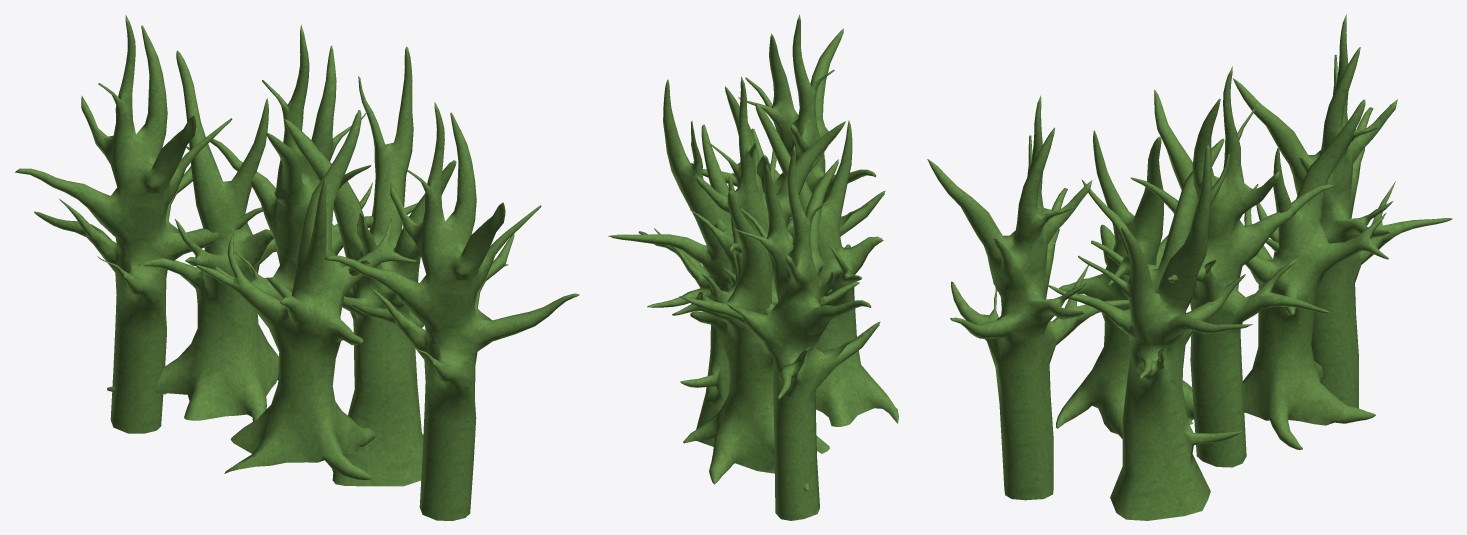
Rendered from SM_ENV_KNFRST_DistanceTree_GroupE.FBX.
3 renders of one model, left to right at view 1: azimuth 30°, elevation 25°; view 2: azimuth 150°, elevation 25°; view 3: azimuth 270°, elevation 25°, orthographic. The views are drawn at different scales.
Visible parts, largest first — view 1: SM_ENV_KNFRST_DistanceTree_GroupE; view 2: SM_ENV_KNFRST_DistanceTree_GroupE; view 3: SM_ENV_KNFRST_DistanceTree_GroupE.
Part boxes in pixels (left/top/right/bottom): SM_ENV_KNFRST_DistanceTree_GroupE: left=15, top=15, right=579, bottom=520; SM_ENV_KNFRST_DistanceTree_GroupE: left=608, top=14, right=898, bottom=520; SM_ENV_KNFRST_DistanceTree_GroupE: left=927, top=14, right=1452, bottom=520.
Bounding box in the file's own units: 9028 × 9883 × 11303.
